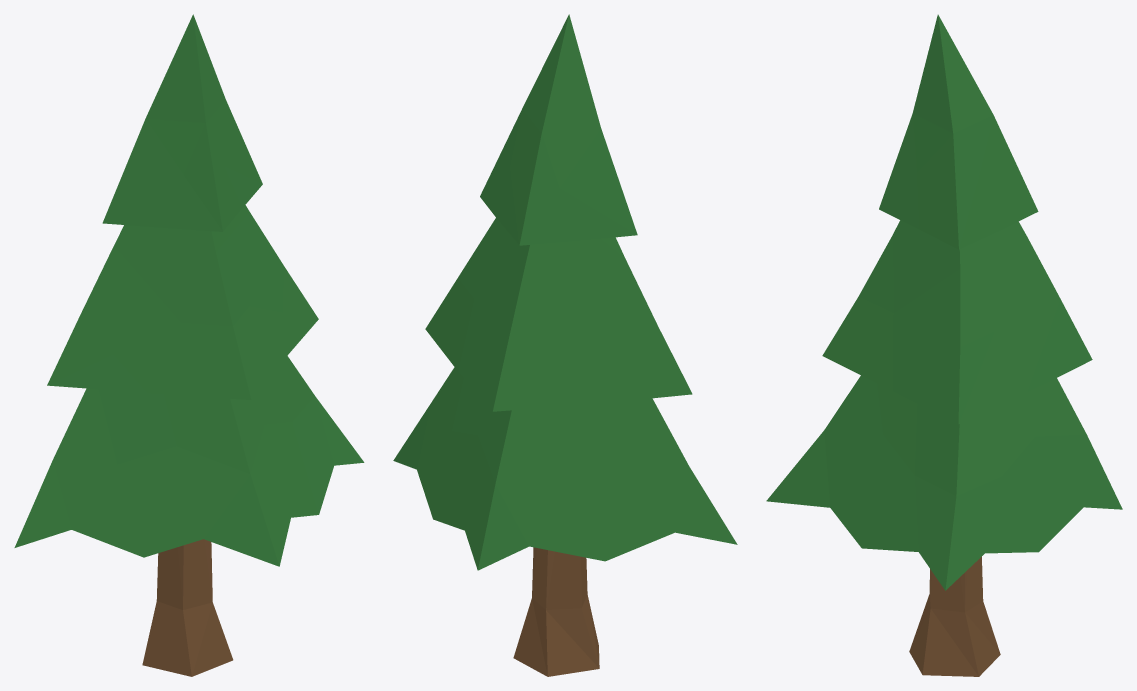
The model's file is tree-spruce.glb.
The picture shows the model from 3 angles, left to right: view 1: azimuth 30°, elevation 25°; view 2: azimuth 150°, elevation 25°; view 3: azimuth 270°, elevation 25°; orthographic projection.
Visible parts, largest first — view 1: tree-spruce; view 2: tree-spruce; view 3: tree-spruce.
Part boxes in pixels (x1,y1,x2,y2): tree-spruce: (14,14,364,676); tree-spruce: (393,14,737,676); tree-spruce: (766,14,1122,676).
Bounding box in the file's own units: 3.14 × 5.55 × 2.78.
Materials: 1 (1 with a texture image).
